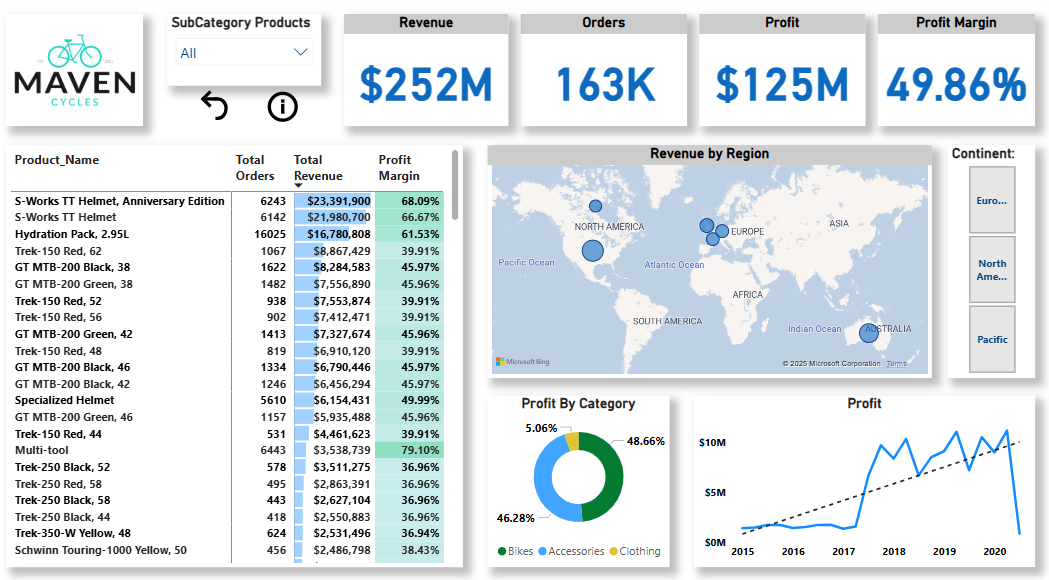

The dashboard page shown, as its layout file describes it:
{"tool":"powerbi","page":{"name":"Executive Dashboard","canvas":[1280,720],"ordinal":0},"visuals":[{"type":"card","title":"Orders","fields":{"Values":["Maven Cycles Sales.Total Orders"]},"box":[633.4,25.3,199.9,134.7],"z":0},{"type":"card","title":"Profit","fields":{"Values":["Maven Cycles Sales.Total Profit"]},"box":[848.1,25.3,199.9,134.7],"z":1000},{"type":"card","title":"Profit Margin","fields":{"Values":["Maven Cycles Sales.Profit Margin"]},"box":[1062.7,25.3,189.4,134.7],"z":2000},{"type":"pivotTable","fields":{"Rows":["Maven Cycles Products.Product_New"],"Values":["Maven Cycles Sales.Total Orders","Maven Cycles Sales.Total Revenue","Maven Cycles Sales.Profit Margin"]},"box":[14.7,183.1,549.2,507.2],"z":3000},{"type":"map","title":"Revenue by Region","fields":{"Category":["Maven Cycles Regions.Country"],"Size":["Maven Cycles Sales.Total Revenue"]},"box":[593.4,183.1,534.5,279.9],"z":4000},{"type":"lineChart","title":"Profit","fields":{"Category":["Maven Cycles Calendar.Year","Maven Cycles Calendar.Start of Quarter","Maven Cycles Calendar.Start of Month"],"Y":["Maven Cycles Sales.Total Profit"]},"box":[841.8,484,410.4,206.2],"z":5000},{"type":"donutChart","title":"Profit By Category","fields":{"Category":["Maven Cycles Product Categories.Product_Category"],"Y":["Maven Cycles Sales.Total Profit"]},"box":[593.4,484,218.9,206.2],"z":6000},{"type":"image","box":[14.7,25.3,164.1,134.7],"z":7000},{"type":"actionButton","box":[242,111.5,48.4,46.3],"z":8000},{"type":"actionButton","box":[324.1,113.6,46.3,46.3],"z":9000},{"type":"slicer","title":"SubCategory Products","fields":{"Values":["Maven Cycles Product Subcategories.Sub_Category"]},"box":[208.3,25.3,185.2,86.3],"z":10000},{"type":"slicer","title":"Continent:","fields":{"Values":["Maven Cycles Regions.Continent"]},"box":[1146.9,183.1,105.2,279.9],"z":11000},{"type":"card","title":"Revenue","fields":{"Values":["Maven Cycles Sales.Total Revenue"]},"box":[420.9,25.3,197.8,134.7],"z":12000}]}

Visuals, with their boxes in screenshot pixels (x1, y1, x2, y2), scaled from the page's 1280x720 canvas onto the 1049x580 screenshot:
"Orders" card: detection(519, 20, 683, 129)
"Profit" card: detection(695, 20, 859, 129)
"Profit Margin" card: detection(871, 20, 1026, 129)
pivotTable - Maven Cycles Products.Product_New x Maven Cycles Sales.Total Orders: detection(12, 147, 462, 556)
"Revenue by Region" map: detection(486, 147, 924, 373)
"Profit" lineChart: detection(690, 390, 1026, 556)
"Profit By Category" donutChart: detection(486, 390, 666, 556)
image: detection(12, 20, 147, 129)
actionButton: detection(198, 90, 238, 127)
actionButton: detection(266, 92, 304, 129)
"SubCategory Products" slicer: detection(171, 20, 322, 90)
"Continent:" slicer: detection(940, 147, 1026, 373)
"Revenue" card: detection(345, 20, 507, 129)
